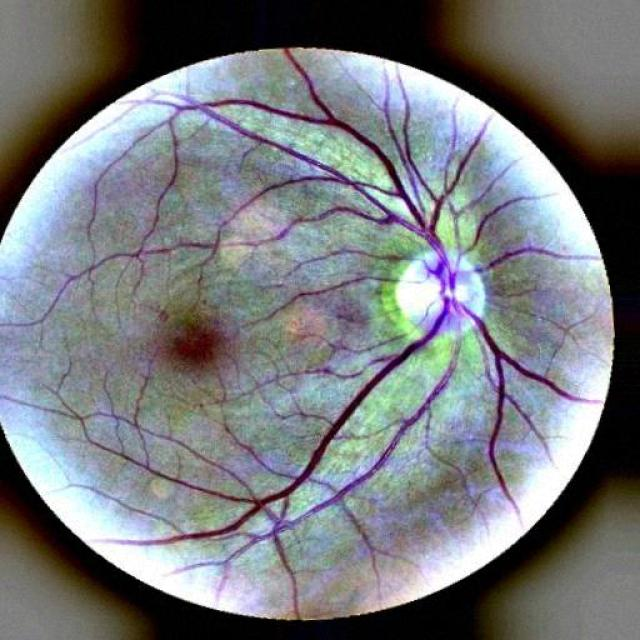Macula: (167, 323, 235, 376)
Nerves: (209, 260, 459, 537), (216, 94, 429, 248), (320, 292, 467, 507), (450, 296, 593, 515), (272, 196, 396, 242), (464, 191, 539, 262), (424, 160, 474, 246), (492, 243, 573, 278)
Optic Disk: (391, 248, 486, 339)
